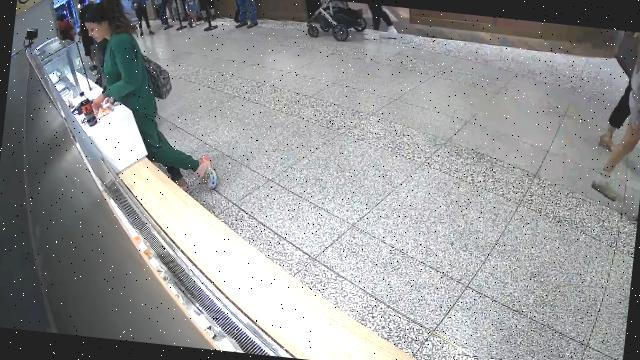sushi-box: (97, 103, 113, 118)
